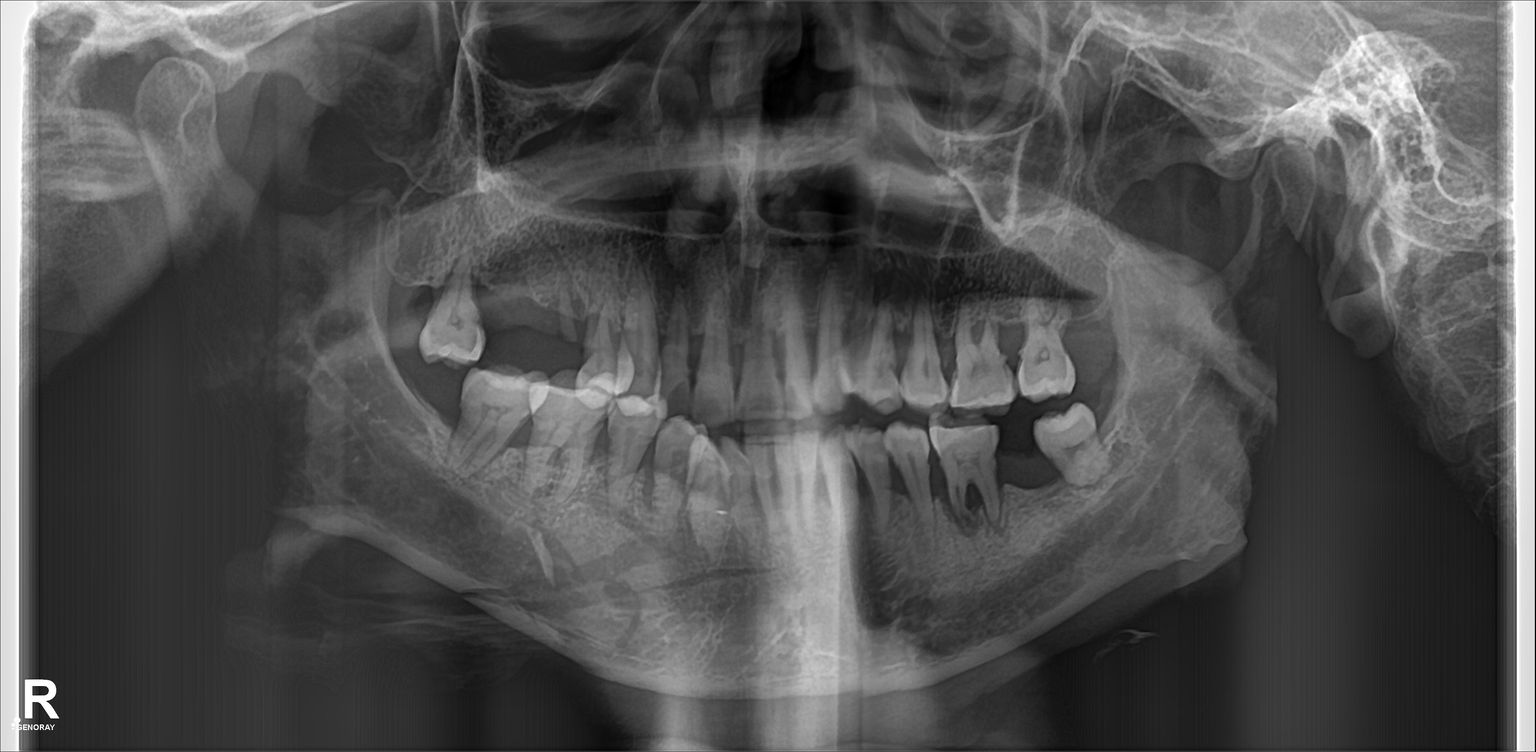Impacted Third Molar: (1039, 408, 1117, 486)
Missing Tooth: (536, 275, 588, 371), (488, 272, 532, 365), (1065, 305, 1113, 386), (387, 257, 431, 337), (406, 380, 453, 451), (998, 434, 1044, 506)
Periapical Lesion: (937, 480, 997, 533)
